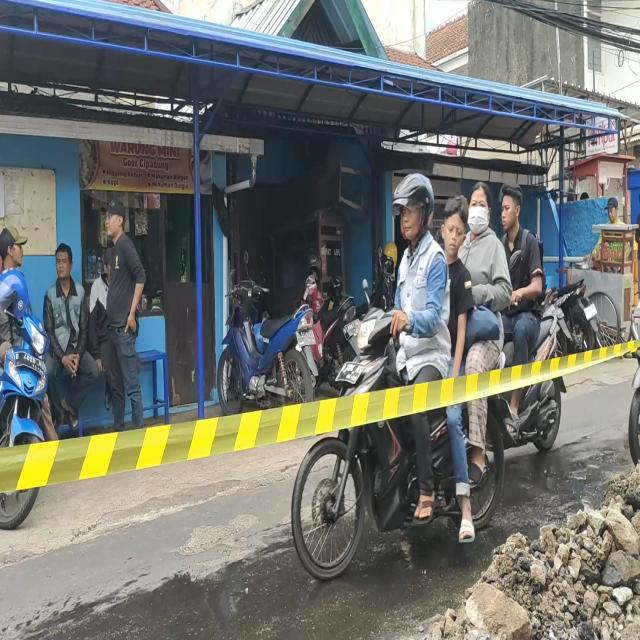helmet: (395, 177, 436, 236)
no-helmet: (467, 178, 493, 235), (441, 199, 465, 254), (501, 187, 522, 232)
